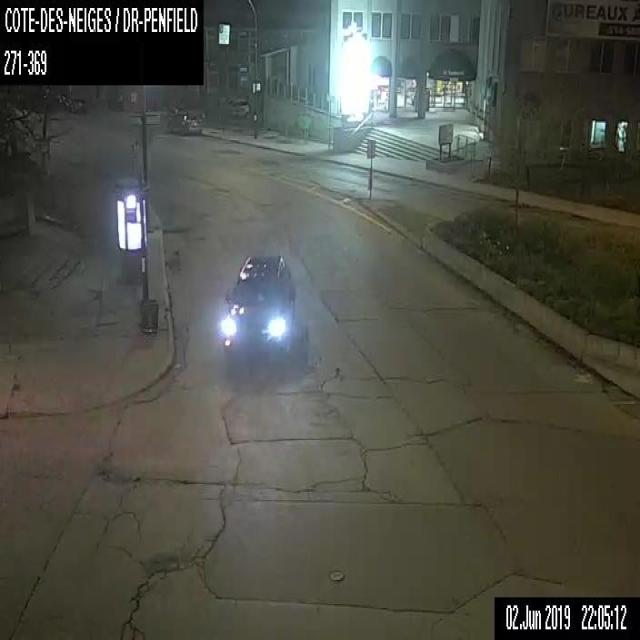vehicle: (219, 252, 295, 357), (167, 106, 202, 134), (226, 96, 250, 118), (62, 92, 86, 113)
